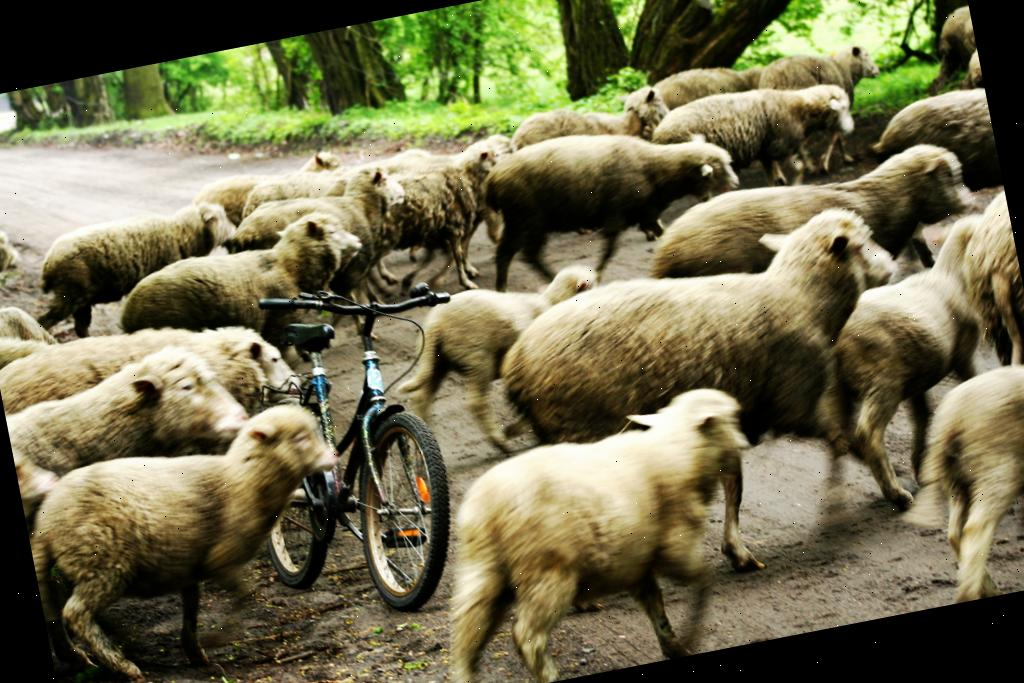Sheep: (493, 214, 926, 513), (415, 360, 804, 683), (8, 373, 387, 683), (805, 199, 1024, 505), (644, 134, 980, 310), (466, 102, 750, 292), (110, 204, 380, 392), (0, 332, 269, 495), (397, 265, 599, 462), (877, 358, 1024, 604), (22, 192, 250, 343), (640, 69, 854, 213), (366, 134, 526, 300), (864, 84, 1002, 207)
